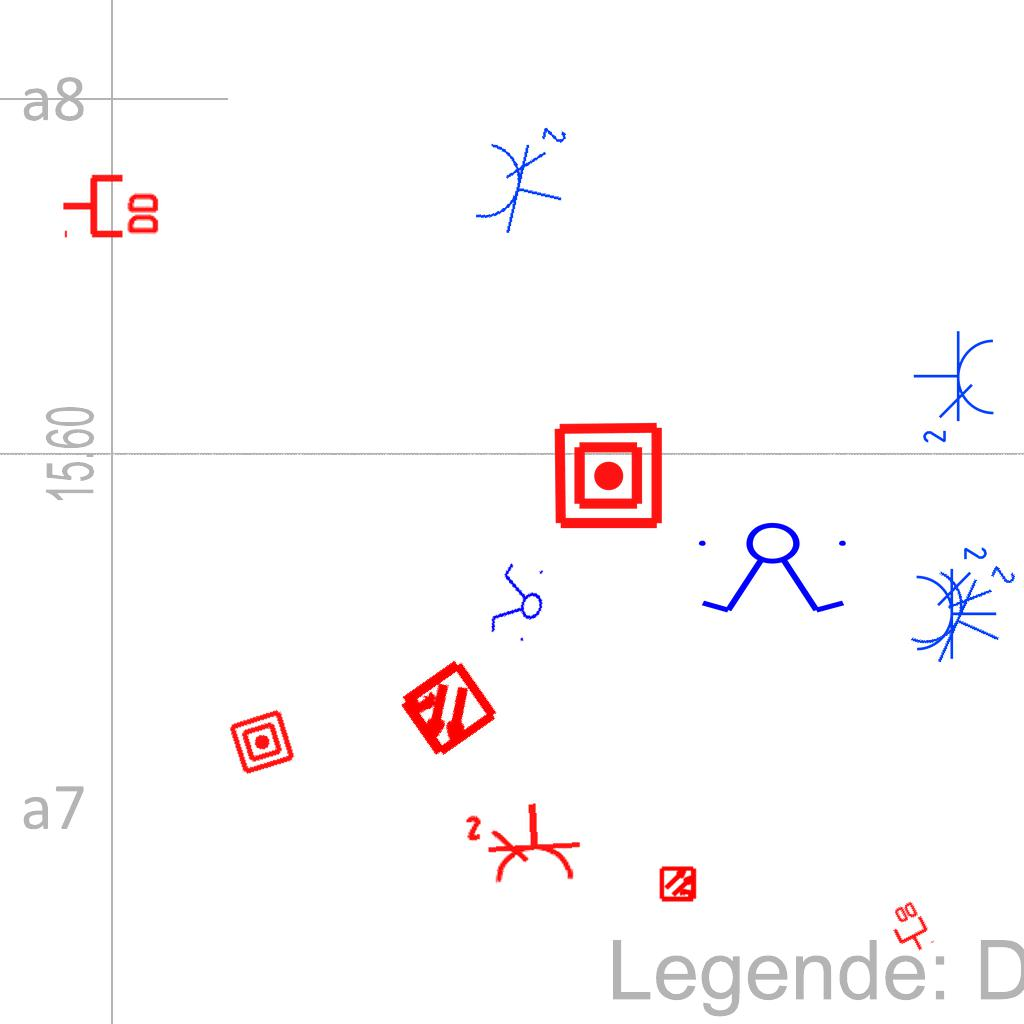Datenanschluss_zweifach: (60, 170, 163, 239), (882, 898, 936, 959)
NAM-Nichtautomatischer_Melder: (552, 419, 665, 532), (227, 707, 297, 777)
OT_Multisensormelder_(Kombination_RMO_WMD): (367, 630, 526, 789), (651, 856, 707, 912)
Schukosteckdose_mehrfach: (900, 536, 1024, 683), (466, 107, 580, 246), (461, 794, 588, 890), (912, 329, 1000, 450), (910, 540, 998, 661)
Serienschalter: (690, 521, 858, 617), (484, 556, 554, 650)
